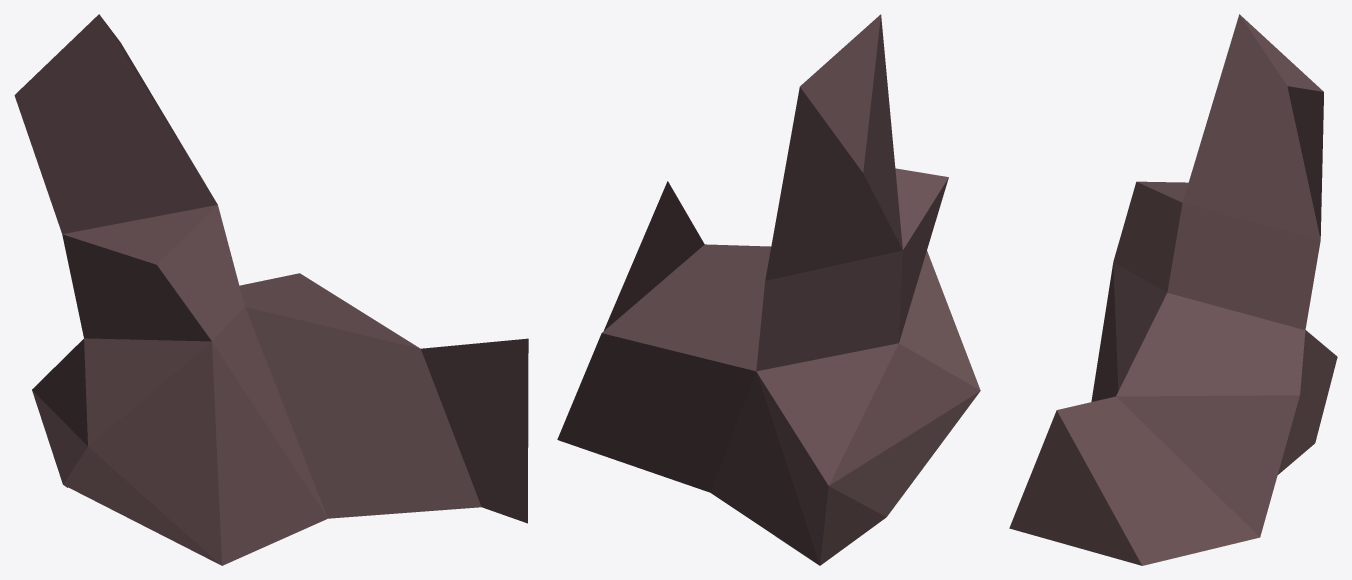
The model's file is rock4.fbx.
3 renders of one model, left to right at view 1: azimuth 30°, elevation 25°; view 2: azimuth 150°, elevation 25°; view 3: azimuth 270°, elevation 25°, orthographic. The views are drawn at different scales.
Parts seen in each view (by area): view 1: Rock4; view 2: Rock4; view 3: Rock4.
Part boxes in pixels (x1,y1,x2,y2): Rock4: (14, 14, 528, 565); Rock4: (557, 14, 980, 565); Rock4: (1009, 14, 1337, 565).
Size of the model in its own units: 30.52 by 27.21 by 38.73.
